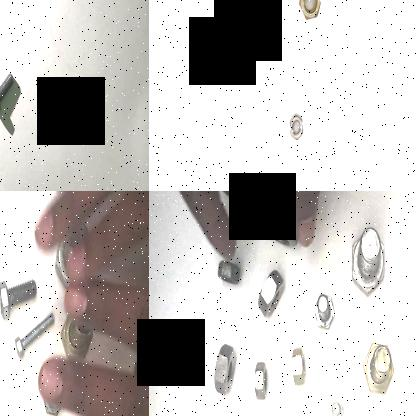Bolts: (358, 320, 402, 413), (350, 223, 388, 302), (13, 306, 58, 360), (0, 270, 42, 323), (310, 294, 338, 330), (0, 65, 14, 113), (331, 392, 347, 416)
NUTS: (256, 197, 304, 247), (212, 342, 244, 400), (258, 262, 286, 322), (250, 359, 280, 404), (289, 338, 311, 392), (214, 254, 242, 290), (252, 12, 276, 52), (287, 109, 304, 144), (296, 0, 324, 20)
